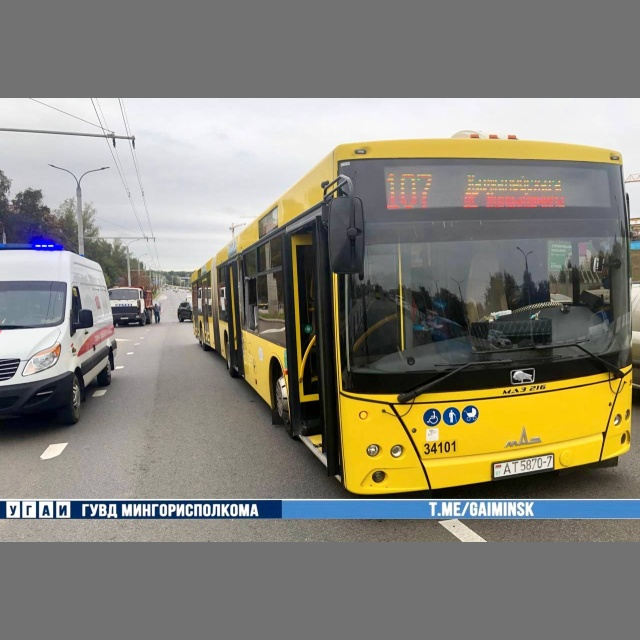Автобус: (192, 139, 632, 498)
